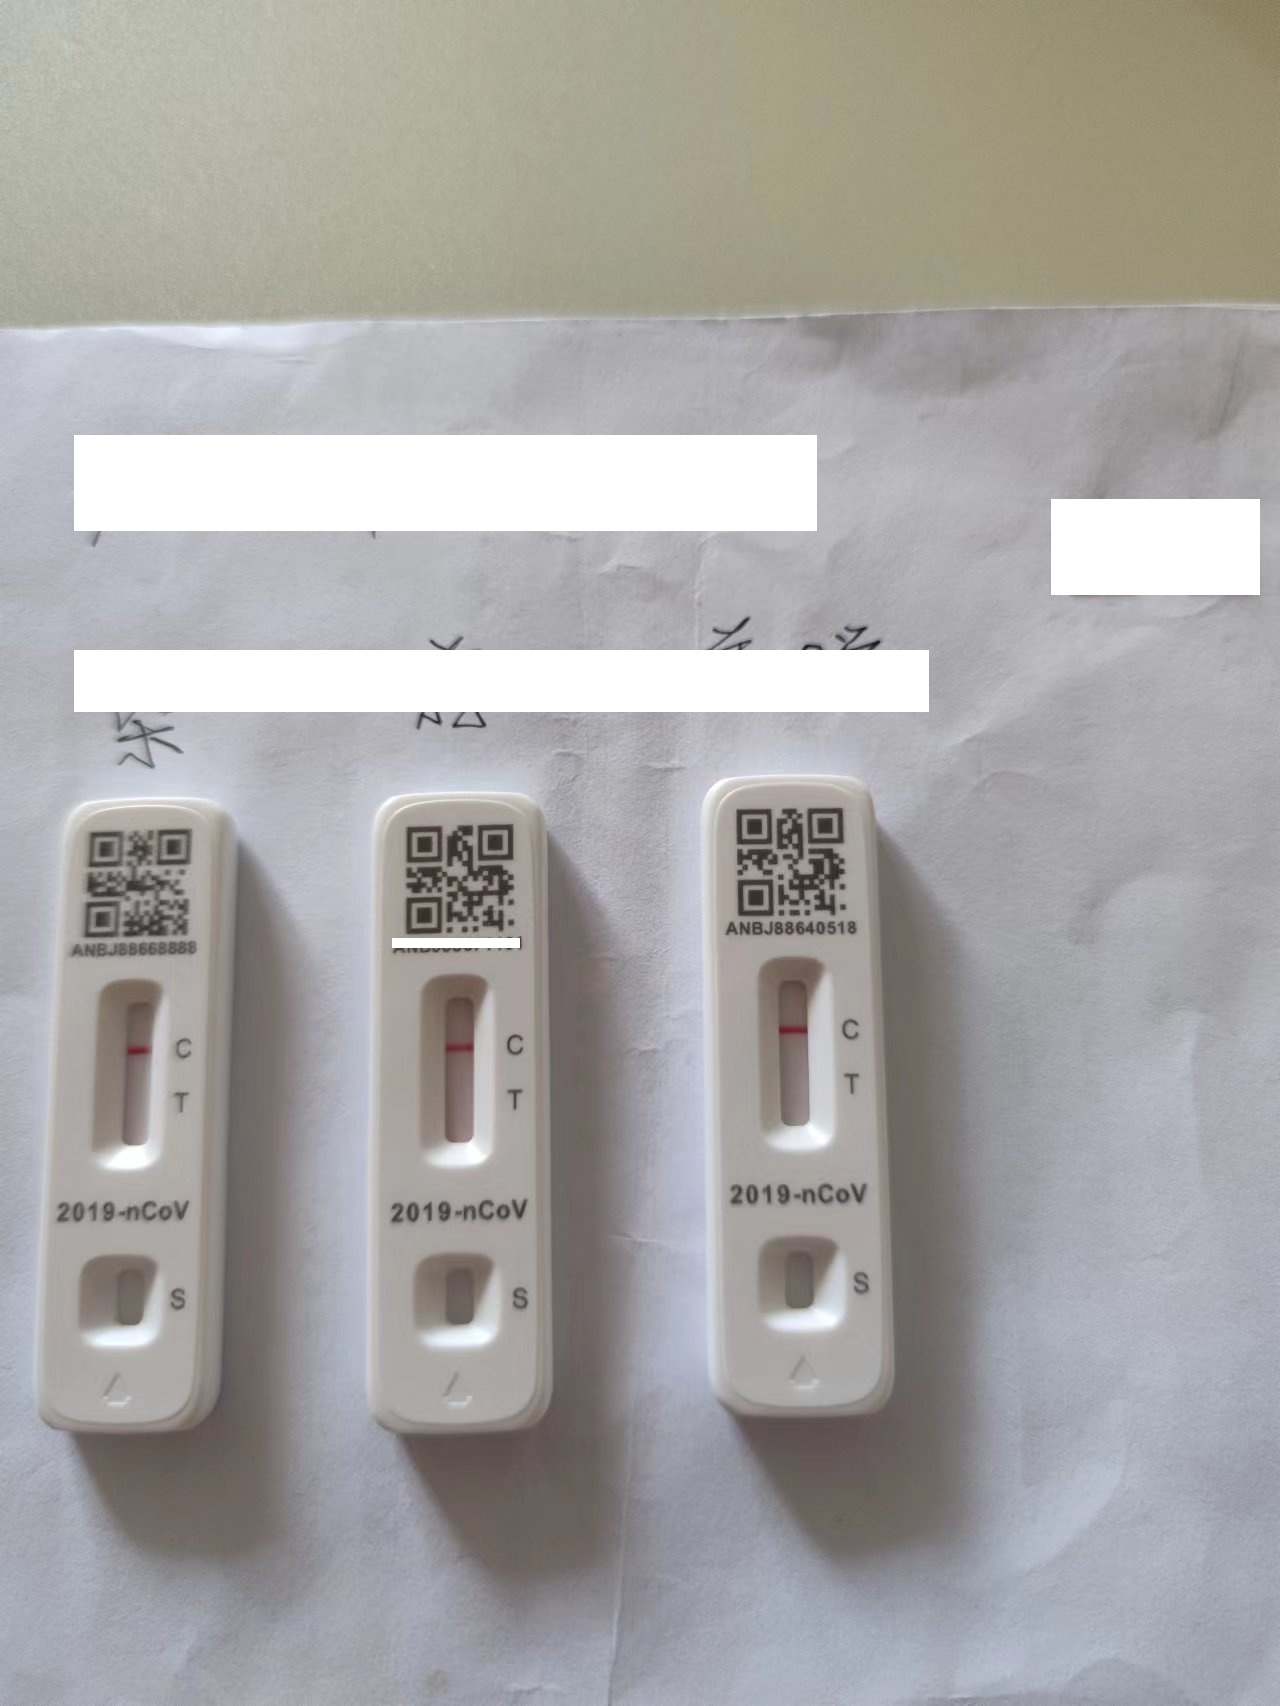negative: (752, 959, 831, 1141), (87, 975, 164, 1163), (418, 971, 489, 1166)
